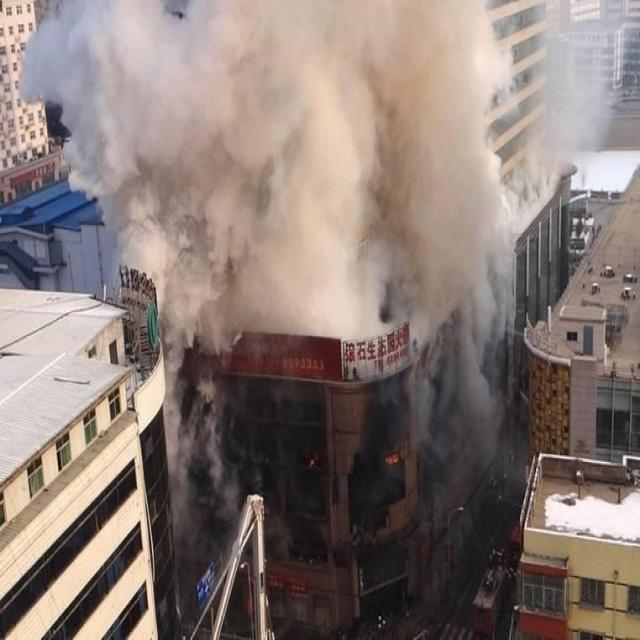Smoke: (15, 1, 617, 569)
